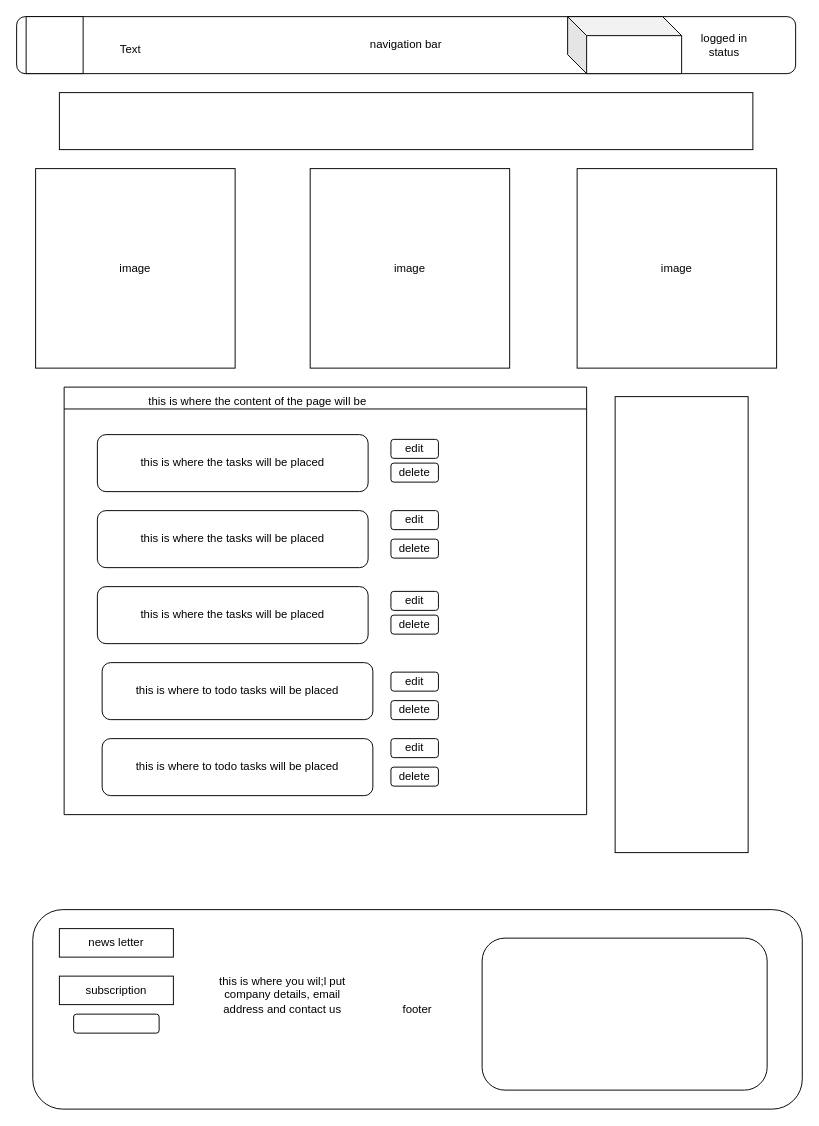
Some shapes in this 819 by 1126 pixel diagram are drawn without their labels. The box of each missing label's shape, as (x1, y1, x2, y2) in pixels:
advertisement: (614, 396, 748, 853)
button: (73, 1013, 159, 1033)
hamburger button: (567, 16, 682, 74)
have your icons here such as github facebook etc: (481, 937, 767, 1090)
logo: (25, 16, 83, 74)
welcome to the page: (58, 92, 753, 150)
